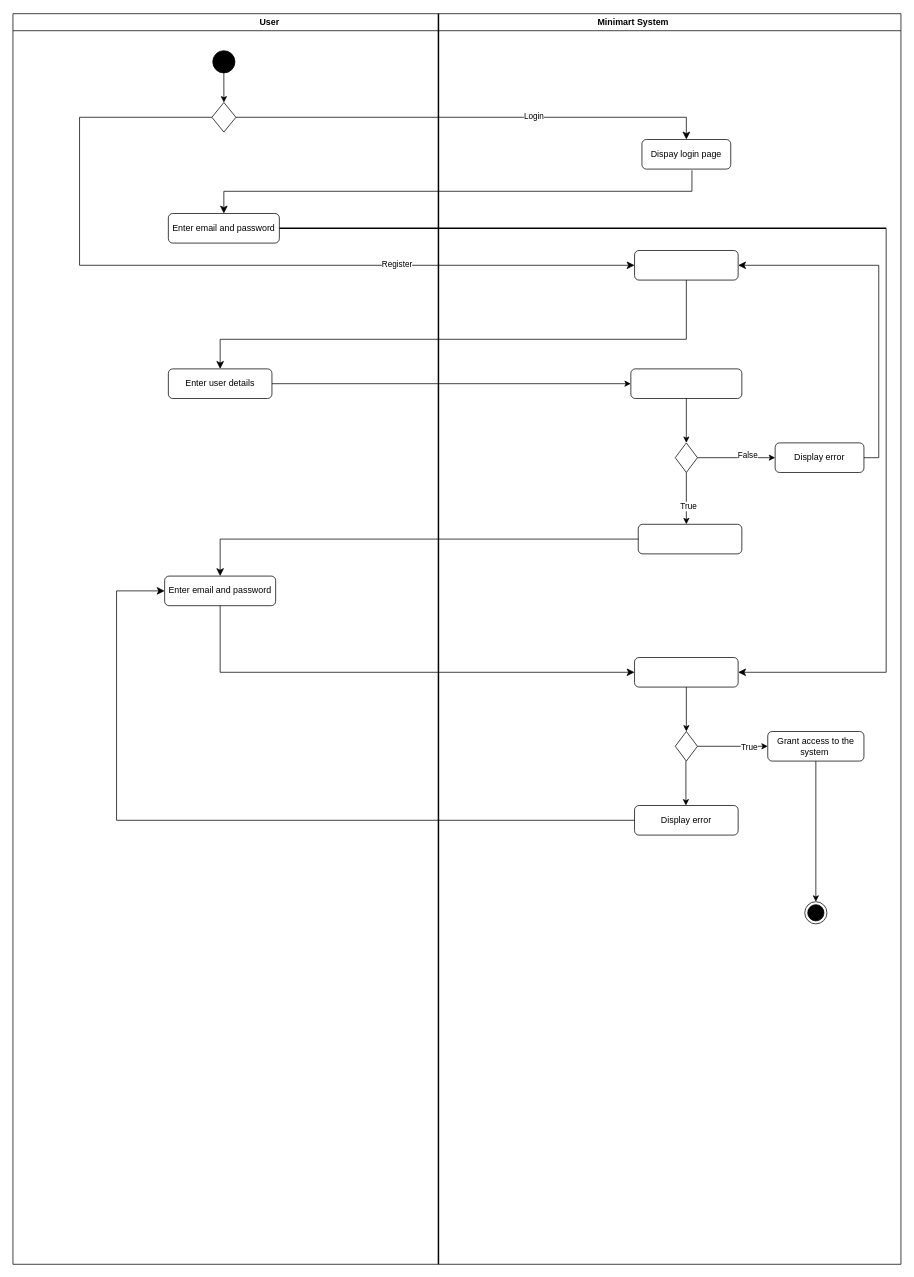
Image size: 914x1277. Some labels were removed from this diagram. The centre of each missing label's shape, as x and y in pixels:
Display login page: (690,539)
Display register form: (686,265)
Validate details: (686,383)
Verify User: (686,672)
